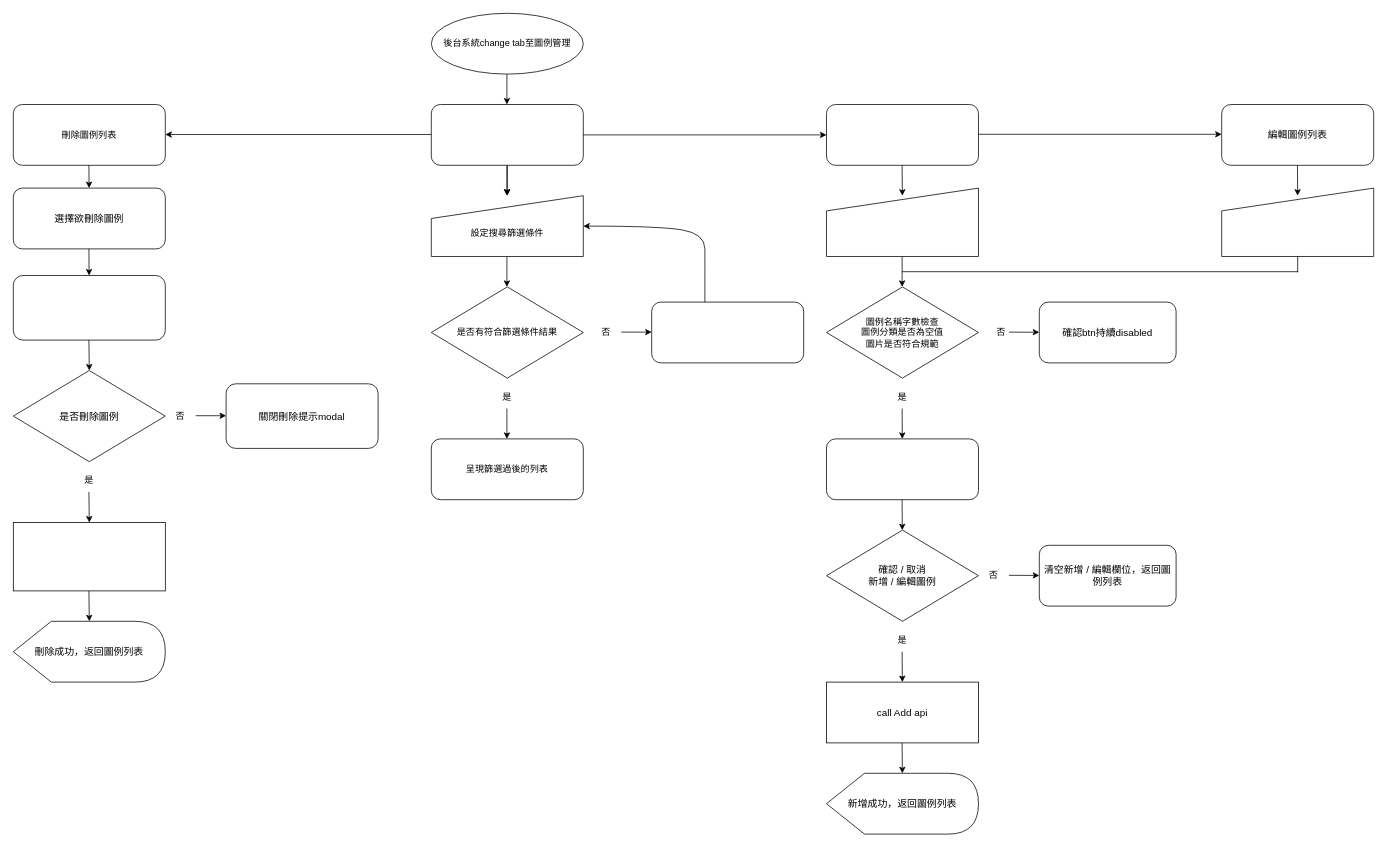
Image size: 1387x847. Some labels were removed from this diagram. Here are the shapes that lost their labels. From the top down, the centre of each, then its label:
[507,134]: 呈現圖例列表
[902,134]: 新增圖例列表
[902,221]: user input圖例名稱 選擇圖例分類 圖例圖片上傳
[1297,221]: user 編輯圖例名稱 選擇圖例分類 圖例圖片上傳
[89,307]: 顯示刪除提示modal
[727,332]: 呈現 無查詢結果提示文字於列表中
[902,469]: 確認btn取消disabled class
[89,556]: call Delete api
